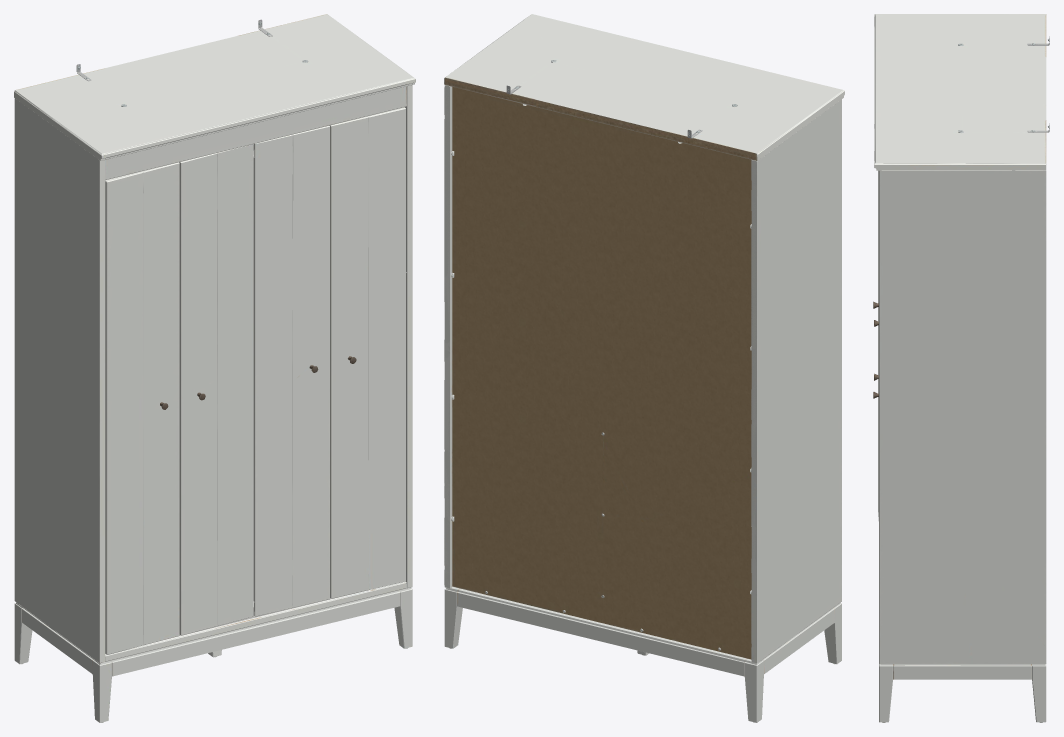
Rendered from idanaes_wardrobe_white.glb.
3 renders of one model, left to right at view 1: azimuth 30°, elevation 25°; view 2: azimuth 150°, elevation 25°; view 3: azimuth 270°, elevation 25°, orthographic. The views are drawn at different scales.
Parts seen in each view (by area): view 1: 1; view 2: 1; view 3: 1.
Part boxes in pixels (x1,y1,x2,y2): 1: (14, 14, 415, 722); 1: (444, 14, 844, 722); 1: (873, 14, 1049, 722).
Bounding box in the file's own units: 1.21 × 2.14 × 0.6004.
2 materials, 2 textured.
